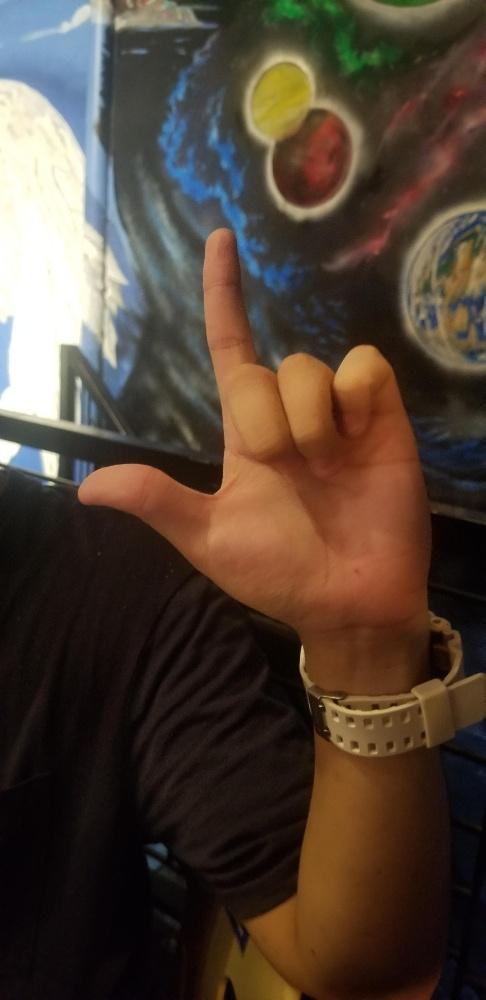l: (74, 226, 431, 628)
